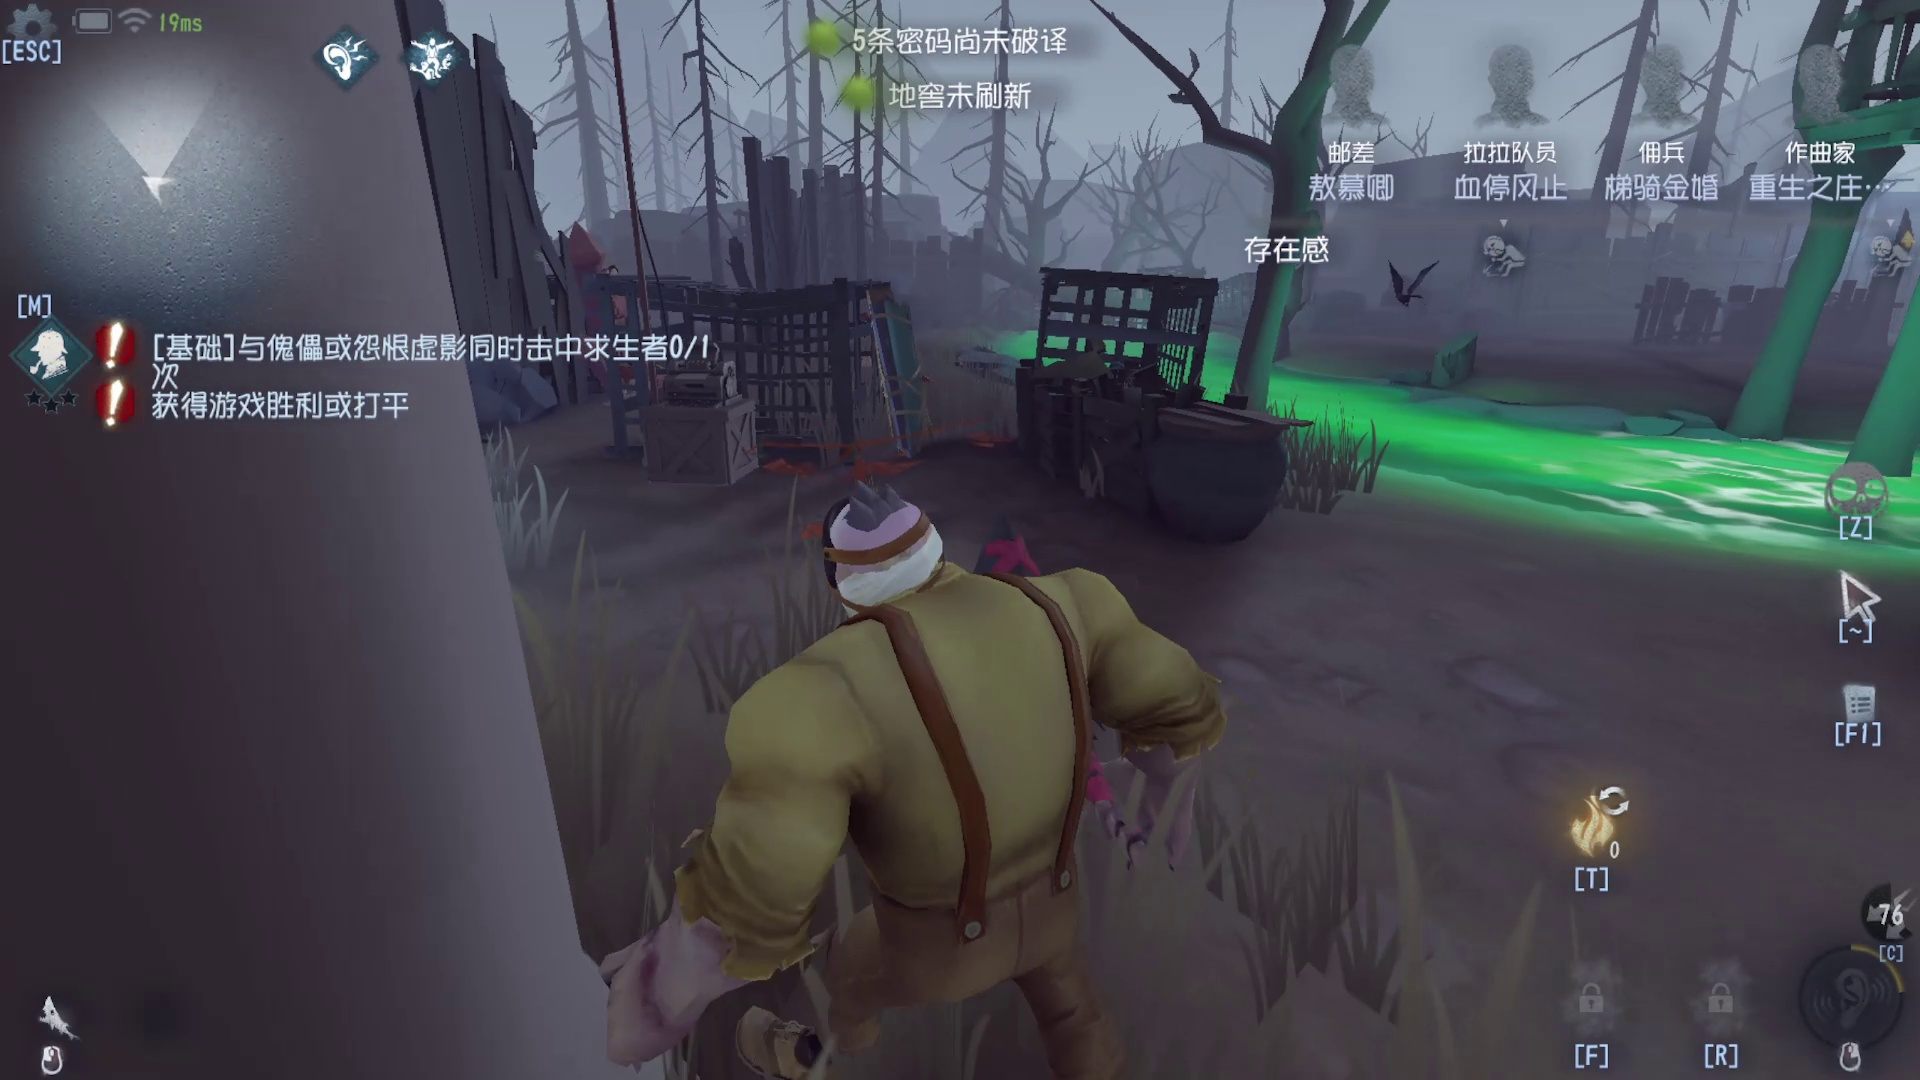密码机: (566, 116, 781, 524)
木板: (856, 252, 949, 473)
